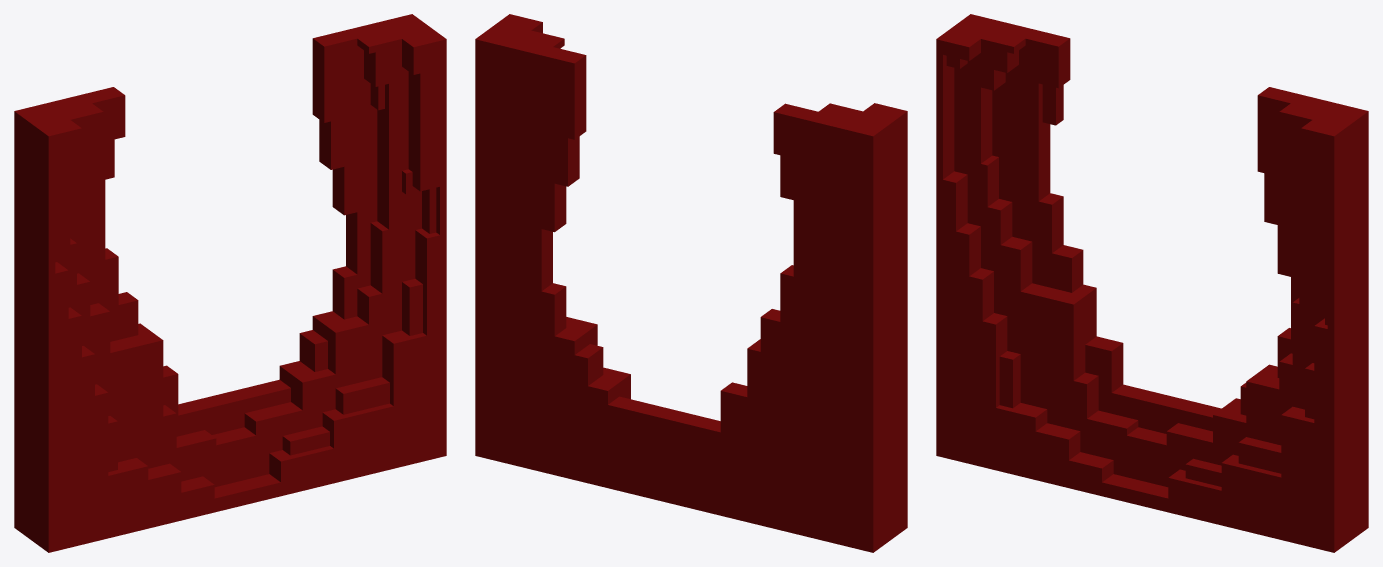
The model's file is horseshoe end 4x4.obj.
3 renders of one model, left to right at view 1: azimuth 30°, elevation 25°; view 2: azimuth 150°, elevation 25°; view 3: azimuth 330°, elevation 25°, orthographic.
Bounding box in the file's own units: 60 × 60 × 9.
